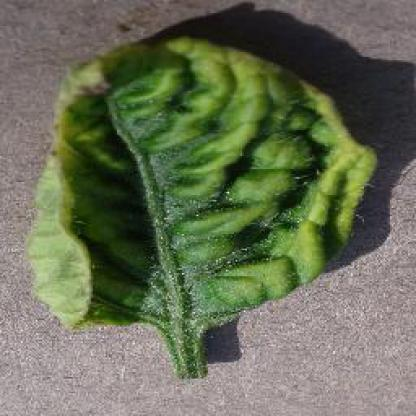bad leaf: (50, 42, 238, 137)
